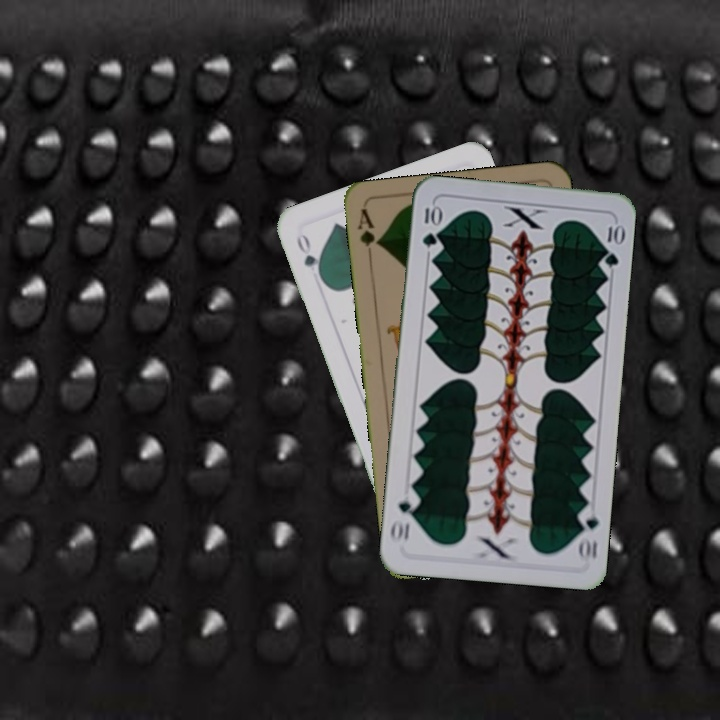G10: (573, 504, 601, 564), (418, 200, 442, 250)
GA: (353, 206, 383, 265)
GO: (292, 229, 326, 284)
